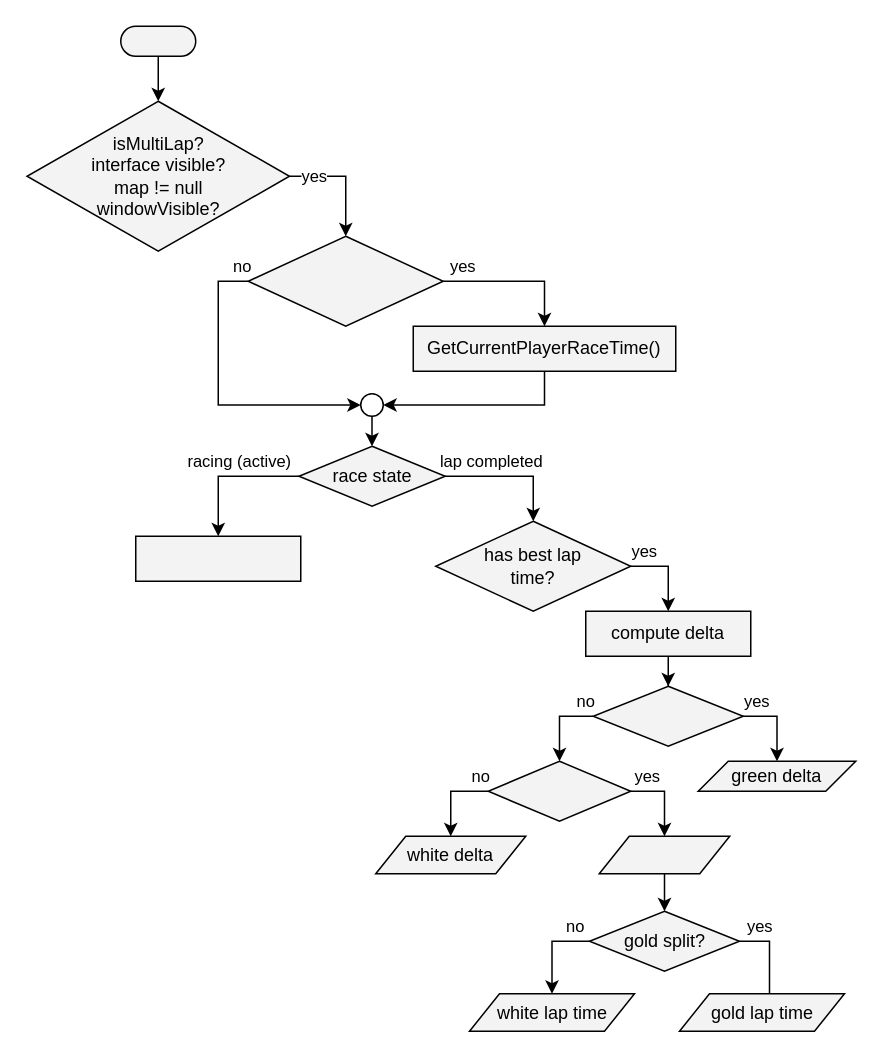
Some shapes in this 882 by 1058 pixel diagram are drawn without their labels. Each missing label, with the centre of its shape:
delta < 0?: pixel 667 715
delta > 0?: pixel 559 790
isRacing?: pixel 345 280
red delta: pixel 664 854
render: pixel 157 40
